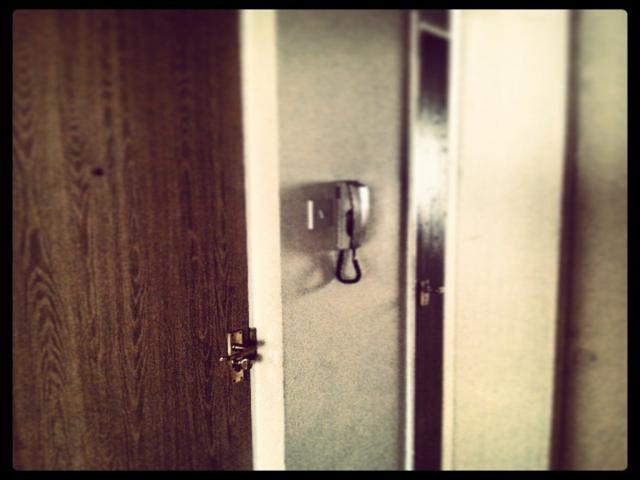Door-handle: (220, 328, 255, 386)
